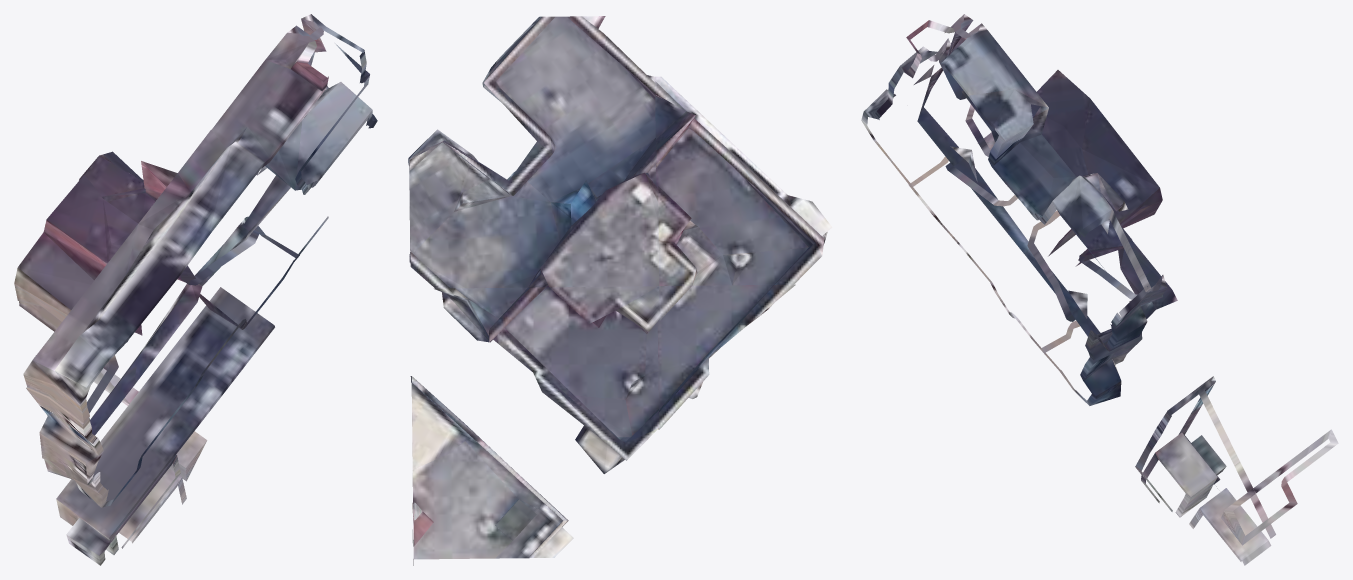
3 views of the same model, side by side, from view 1: azimuth 30°, elevation 25°; view 2: azimuth 150°, elevation 25°; view 3: azimuth 270°, elevation 25° (orthographic). The views are drawn at different scales.
Size of the model in its own units: 28 by 36.46 by 29.85.
1 material, 1 textured.
